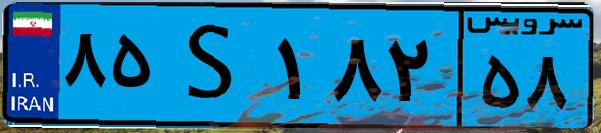1: (270, 28, 330, 110)
2: (385, 28, 445, 110)
5: (475, 38, 525, 113), (110, 28, 158, 98)
8: (330, 28, 385, 110), (57, 26, 110, 100), (525, 38, 570, 115)
S: (158, 12, 270, 120)
